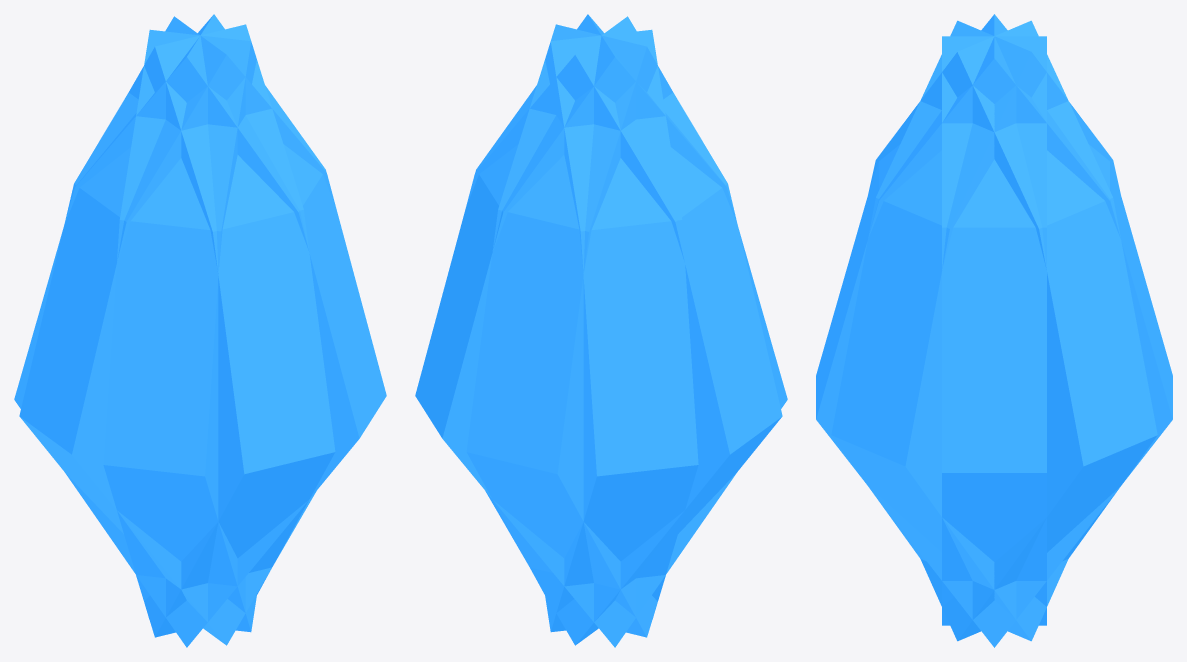
Rendered from collectible_nova.glb.
3 renders of one model, left to right at view 1: azimuth 30°, elevation 25°; view 2: azimuth 150°, elevation 25°; view 3: azimuth 270°, elevation 25°, orthographic.
Visible parts, largest first — view 1: NovaShard; view 2: NovaShard; view 3: NovaShard.
Boxes of the visible parts, x1,y1,x2,y2 form: NovaShard: (14, 14, 386, 647); NovaShard: (415, 14, 787, 647); NovaShard: (816, 14, 1172, 647).
Bounding box in the file's own units: 0.34 × 0.62 × 0.34.
